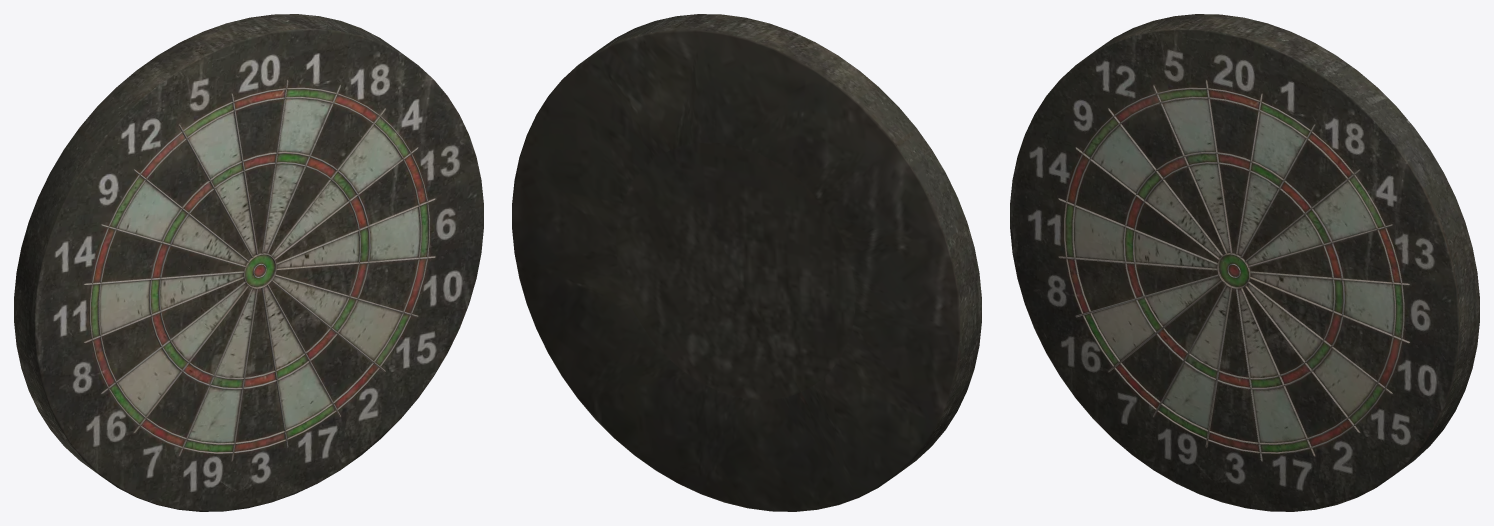
File: dartboard.glb
3 views of the same model, side by side, from view 1: azimuth 30°, elevation 25°; view 2: azimuth 150°, elevation 25°; view 3: azimuth 330°, elevation 25° (orthographic).
Parts seen in each view (by area): view 1: dartboard; view 2: dartboard; view 3: dartboard.
Boxes of the visible parts, left/top/right/bottom form: dartboard: left=14, top=14, right=483, bottom=511; dartboard: left=512, top=14, right=981, bottom=511; dartboard: left=1010, top=14, right=1479, bottom=511.
Bounding box in the file's own units: 0.4507 × 0.4507 × 0.0398.
1 material, 1 textured.
